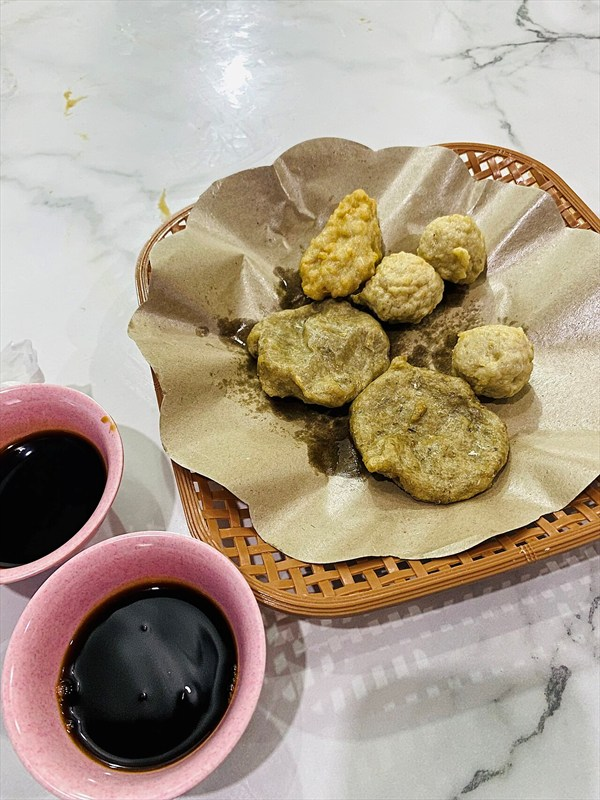Pempek: (31, 179, 538, 748)
